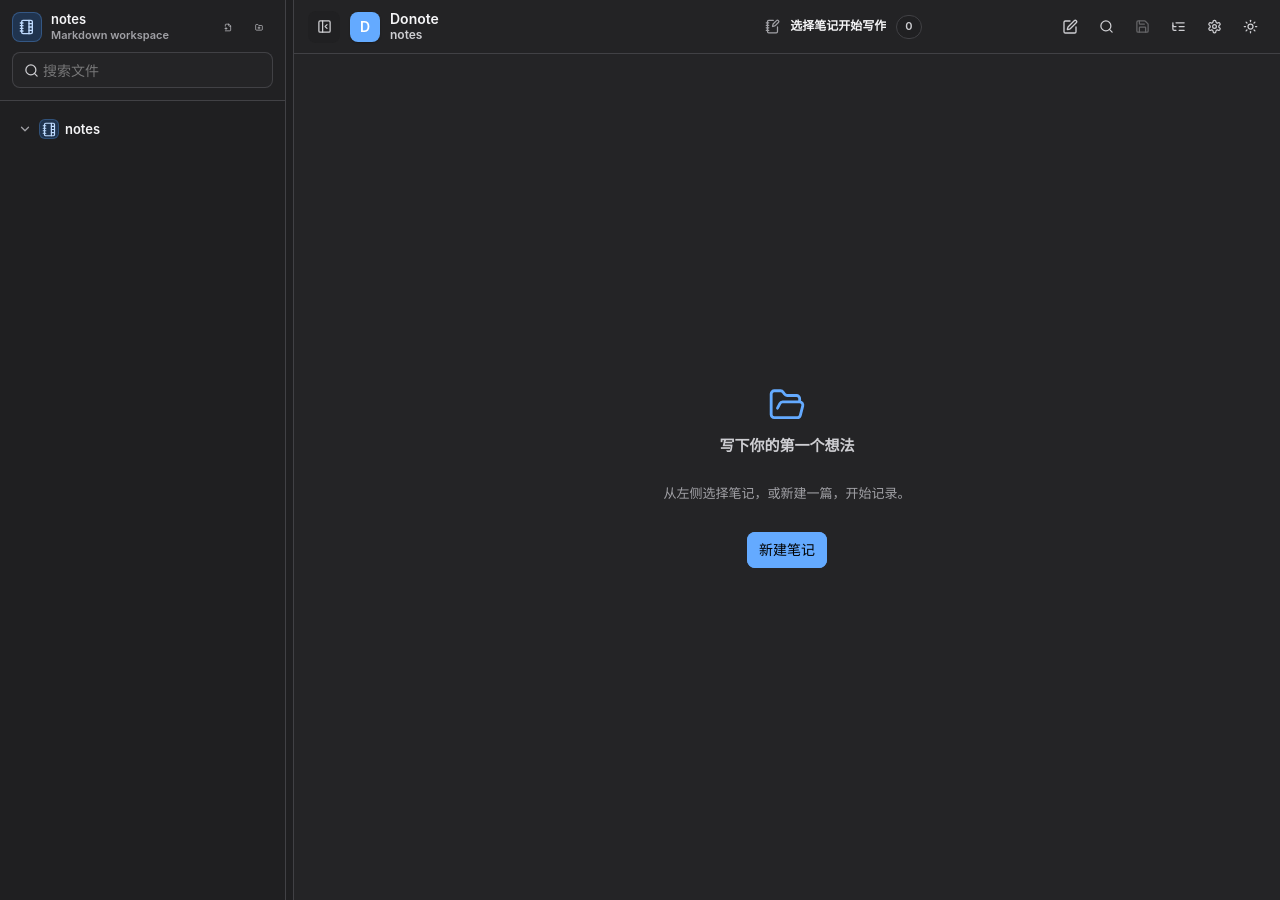
Test: App shell › shows and switches the current workspace from settings
Click the button with test id "utility-settings".
click(1214, 26)  # box x1=1198 y1=10 x2=1230 y2=42
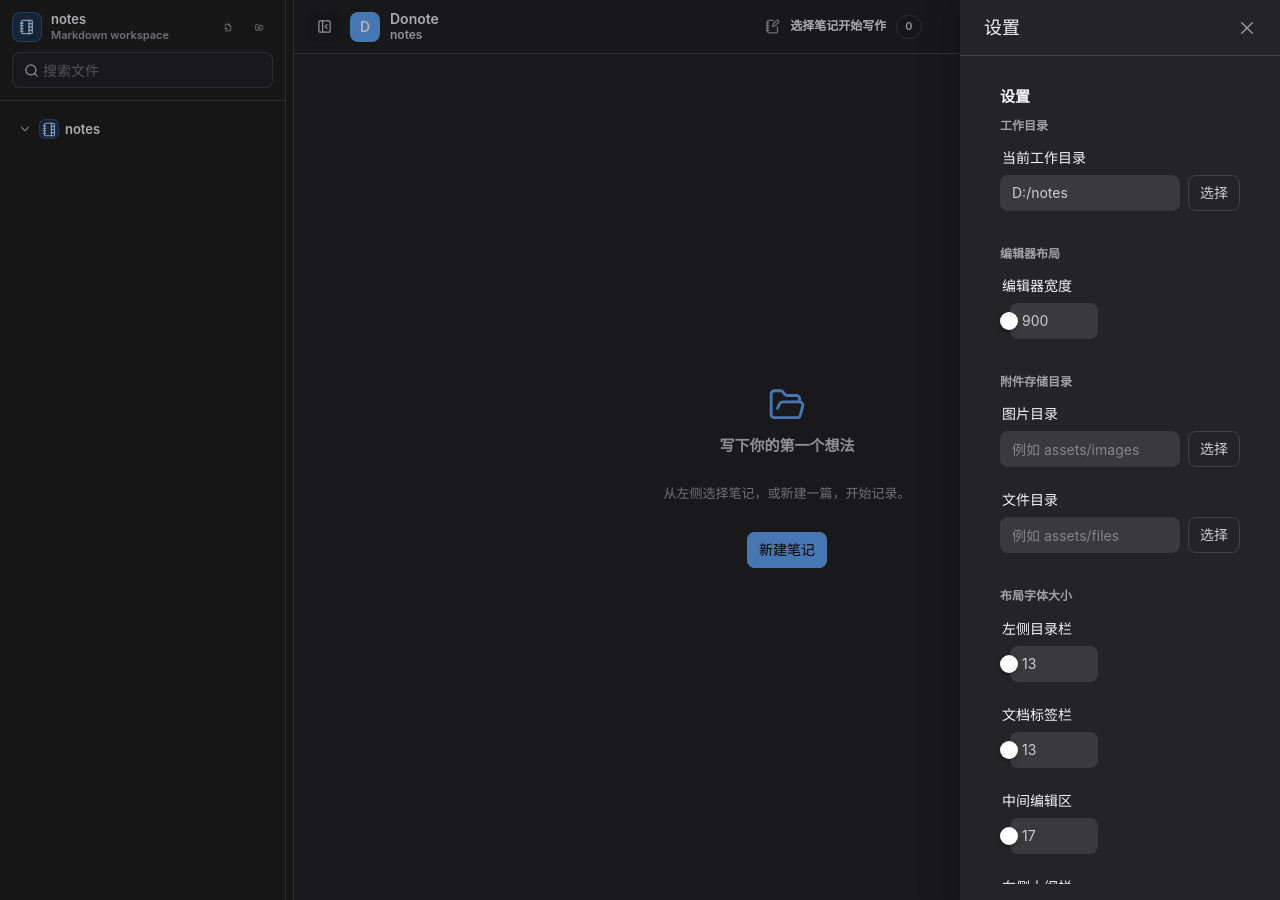
Result: the field with test id "settings-workspace-root" holds "D:/notes" at x1=1012 y1=175 x2=1168 y2=211
Click the button with test id "select-workspace-root".
click(1214, 193)  # box x1=1188 y1=175 x2=1240 y2=211
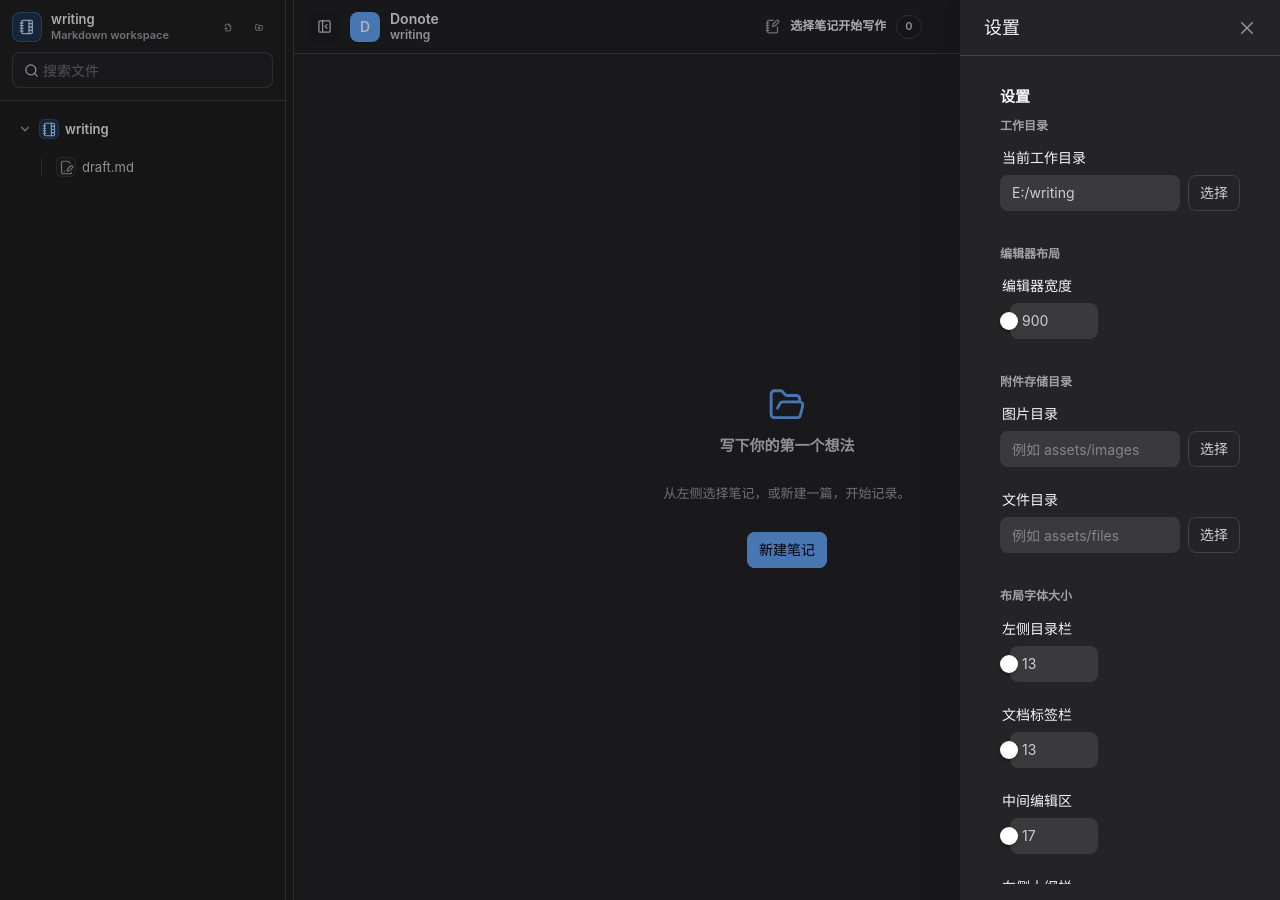
Result: the field with test id "settings-workspace-root" holds "E:/writing" at x1=1012 y1=175 x2=1168 y2=211
Result: the text "writing" is shown at x1=390 y1=27 x2=430 y2=42
Result: the text "draft.md" is shown at x1=82 y1=158 x2=134 y2=175
